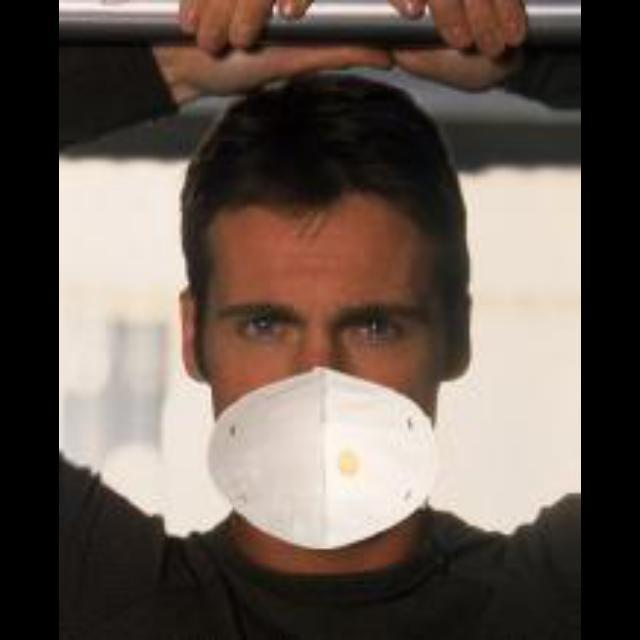suspicion: (120, 146, 500, 560)
